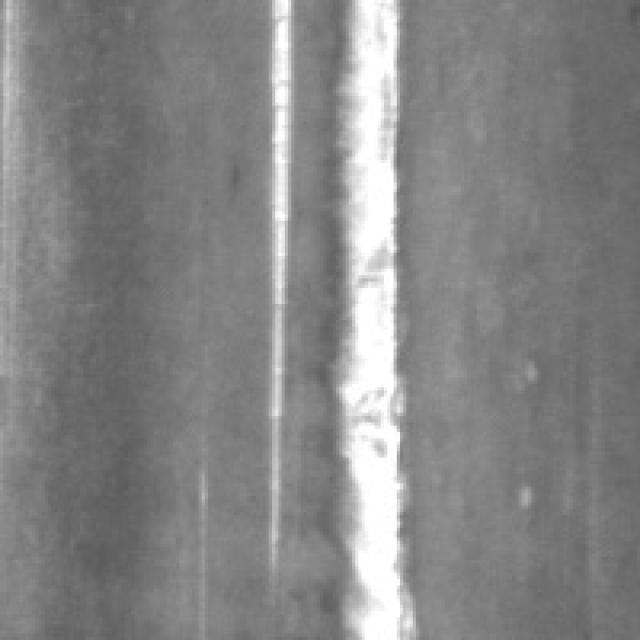scratches: (314, 0, 419, 637), (259, 0, 294, 598)
